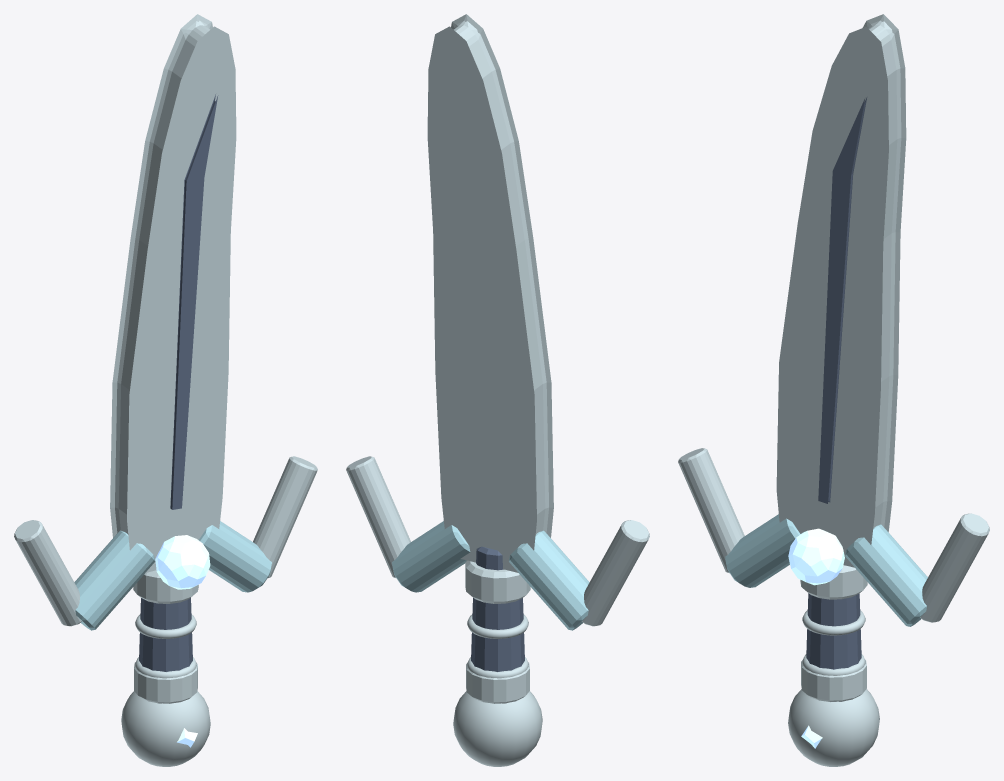
Rendered from dual-pair-02-frost-and-shadow.glb.
3 views of the same model, side by side, from view 1: azimuth 30°, elevation 25°; view 2: azimuth 150°, elevation 25°; view 3: azimuth 330°, elevation 25° (orthographic). The views are drawn at different scales.
Visible parts, largest first — view 1: dual-pair-02-frost-and-shadow_ForgedBlade.001, dual-pair-02-frost-and-shadow_ColoredFuller.001, dual-pair-02-frost-and-shadow_Pommel.001, dual-pair-02-frost-and-shadow_Guard_Left.001, dual-pair-02-frost-and-shadow_Guard_LeftTip.001, dual-pair-02-frost-and-shadow_Guard_RightTip.001, dual-pair-02-frost-and-shadow_Guard_Right.001, dual-pair-02-frost-and-shadow_LeatherGrip.001, dual-pair-02-frost-and-shadow_GuardGem.001, dual-pair-02-frost-and-shadow_LowerFerrule.001, dual-pair-02-frost-and-shadow_UpperFerrule.001, dual-pair-02-frost-and-shadow_GripBinding_2.001; view 2: dual-pair-02-frost-and-shadow_ForgedBlade.001, dual-pair-02-frost-and-shadow_Pommel.001, dual-pair-02-frost-and-shadow_Guard_Left.001, dual-pair-02-frost-and-shadow_LeatherGrip.001, dual-pair-02-frost-and-shadow_Guard_Right.001, dual-pair-02-frost-and-shadow_Guard_LeftTip.001, dual-pair-02-frost-and-shadow_Guard_RightTip.001, dual-pair-02-frost-and-shadow_UpperFerrule.001, dual-pair-02-frost-and-shadow_LowerFerrule.001, dual-pair-02-frost-and-shadow_GripBinding_2.001; view 3: dual-pair-02-frost-and-shadow_ForgedBlade.001, dual-pair-02-frost-and-shadow_ColoredFuller.001, dual-pair-02-frost-and-shadow_Pommel.001, dual-pair-02-frost-and-shadow_Guard_Right.001, dual-pair-02-frost-and-shadow_Guard_RightTip.001, dual-pair-02-frost-and-shadow_Guard_LeftTip.001, dual-pair-02-frost-and-shadow_Guard_Left.001, dual-pair-02-frost-and-shadow_LeatherGrip.001, dual-pair-02-frost-and-shadow_GuardGem.001, dual-pair-02-frost-and-shadow_LowerFerrule.001, dual-pair-02-frost-and-shadow_UpperFerrule.001, dual-pair-02-frost-and-shadow_GripBinding_2.001 (+1 smaller).
Boxes of the visible parts, bbox=[...] form: dual-pair-02-frost-and-shadow_ForgedBlade.001: bbox=[110, 14, 236, 572]; dual-pair-02-frost-and-shadow_ColoredFuller.001: bbox=[170, 94, 218, 509]; dual-pair-02-frost-and-shadow_Pommel.001: bbox=[121, 691, 210, 766]; dual-pair-02-frost-and-shadow_Guard_Left.001: bbox=[74, 530, 155, 630]; dual-pair-02-frost-and-shadow_Guard_LeftTip.001: bbox=[14, 520, 81, 626]; dual-pair-02-frost-and-shadow_Guard_RightTip.001: bbox=[253, 456, 317, 577]; dual-pair-02-frost-and-shadow_Guard_Right.001: bbox=[199, 521, 271, 592]; dual-pair-02-frost-and-shadow_LeatherGrip.001: bbox=[139, 597, 192, 671]; dual-pair-02-frost-and-shadow_GuardGem.001: bbox=[155, 535, 210, 589]; dual-pair-02-frost-and-shadow_LowerFerrule.001: bbox=[134, 662, 197, 703]; dual-pair-02-frost-and-shadow_UpperFerrule.001: bbox=[133, 570, 198, 603]; dual-pair-02-frost-and-shadow_GripBinding_2.001: bbox=[135, 614, 196, 638]; dual-pair-02-frost-and-shadow_ForgedBlade.001: bbox=[427, 14, 553, 572]; dual-pair-02-frost-and-shadow_Pommel.001: bbox=[453, 691, 542, 766]; dual-pair-02-frost-and-shadow_Guard_Left.001: bbox=[508, 530, 589, 630]; dual-pair-02-frost-and-shadow_LeatherGrip.001: bbox=[471, 546, 524, 671]; dual-pair-02-frost-and-shadow_Guard_Right.001: bbox=[392, 521, 470, 592]; dual-pair-02-frost-and-shadow_Guard_LeftTip.001: bbox=[582, 520, 649, 626]; dual-pair-02-frost-and-shadow_Guard_RightTip.001: bbox=[346, 456, 410, 577]; dual-pair-02-frost-and-shadow_UpperFerrule.001: bbox=[465, 560, 530, 603]; dual-pair-02-frost-and-shadow_LowerFerrule.001: bbox=[466, 662, 529, 703]; dual-pair-02-frost-and-shadow_GripBinding_2.001: bbox=[467, 614, 528, 638]; dual-pair-02-frost-and-shadow_ForgedBlade.001: bbox=[776, 14, 906, 567]; dual-pair-02-frost-and-shadow_ColoredFuller.001: bbox=[818, 97, 867, 503]; dual-pair-02-frost-and-shadow_Pommel.001: bbox=[788, 689, 879, 766]; dual-pair-02-frost-and-shadow_Guard_Right.001: bbox=[845, 524, 927, 626]; dual-pair-02-frost-and-shadow_Guard_RightTip.001: bbox=[920, 513, 989, 622]; dual-pair-02-frost-and-shadow_Guard_LeftTip.001: bbox=[678, 448, 744, 573]; dual-pair-02-frost-and-shadow_Guard_Left.001: bbox=[725, 514, 800, 587]; dual-pair-02-frost-and-shadow_LeatherGrip.001: bbox=[806, 593, 861, 669]; dual-pair-02-frost-and-shadow_GuardGem.001: bbox=[788, 528, 844, 585]; dual-pair-02-frost-and-shadow_LowerFerrule.001: bbox=[801, 659, 866, 701]; dual-pair-02-frost-and-shadow_UpperFerrule.001: bbox=[800, 565, 867, 599]; dual-pair-02-frost-and-shadow_GripBinding_2.001: bbox=[802, 610, 865, 635].
Size of the model in its own units: 0.4221 by 0.9889 by 0.1286.
